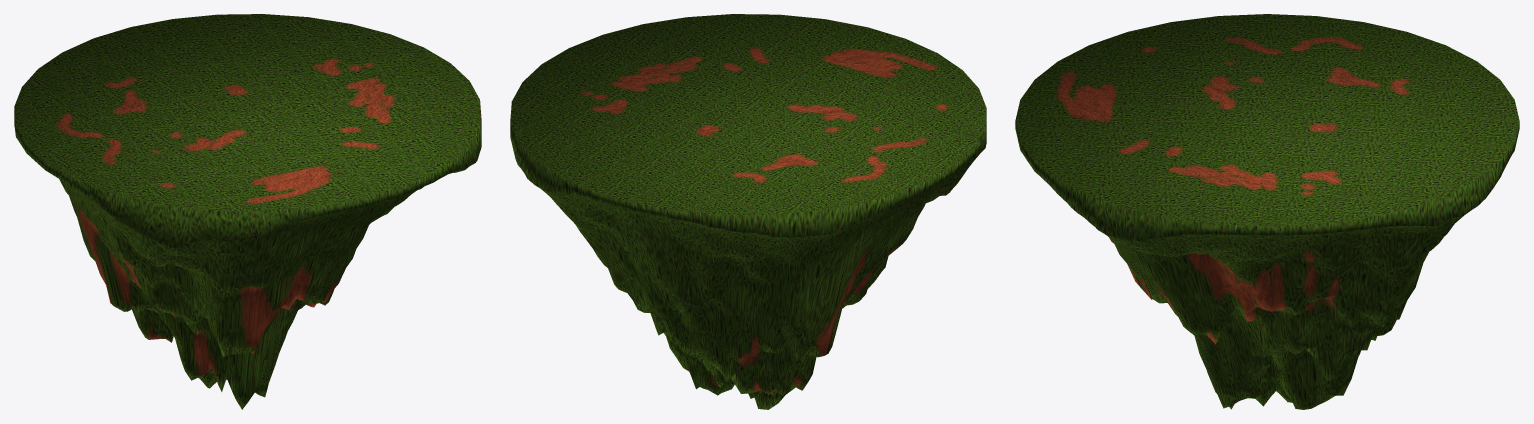
File: ground_castle.obj
3 renders of one model, left to right at view 1: azimuth 30°, elevation 25°; view 2: azimuth 150°, elevation 25°; view 3: azimuth 270°, elevation 25°, orthographic. The views are drawn at different scales.
Parts seen in each view (by area): view 1: 円柱; view 2: 円柱; view 3: 円柱.
Boxes of the visible parts, <box> form: 円柱: <box>14,14,481,409</box>; 円柱: <box>510,14,986,409</box>; 円柱: <box>1015,14,1519,409</box>.
Bounding box in the file's own units: 2 × 1.32 × 2.
